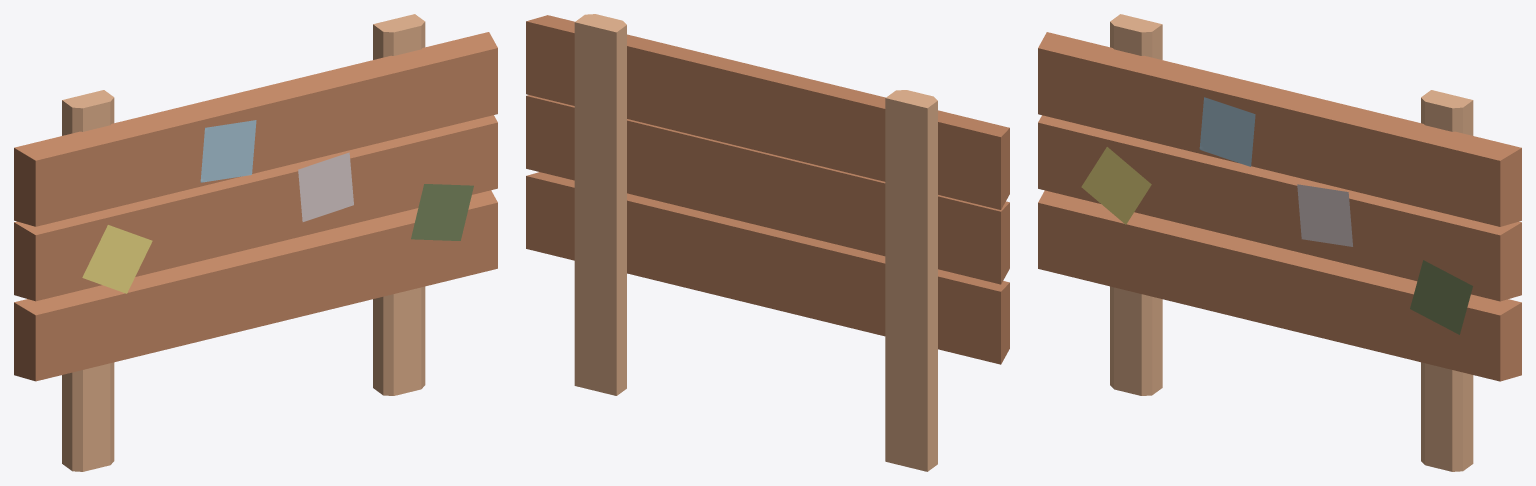
File: Twopole_board.fbx
The picture shows the model from 3 angles, left to right: view 1: azimuth 30°, elevation 25°; view 2: azimuth 150°, elevation 25°; view 3: azimuth 330°, elevation 25°; orthographic projection.
Visible parts, largest first — view 1: Twopole_board; view 2: Twopole_board; view 3: Twopole_board.
Part boxes in pixels (x1=…): Twopole_board: x1=14, y1=14, x2=497, y2=471; Twopole_board: x1=526, y1=14, x2=1009, y2=471; Twopole_board: x1=1038, y1=14, x2=1521, y2=471.
Bounding box in the file's own units: 41.36 × 4.47 × 30.26.
